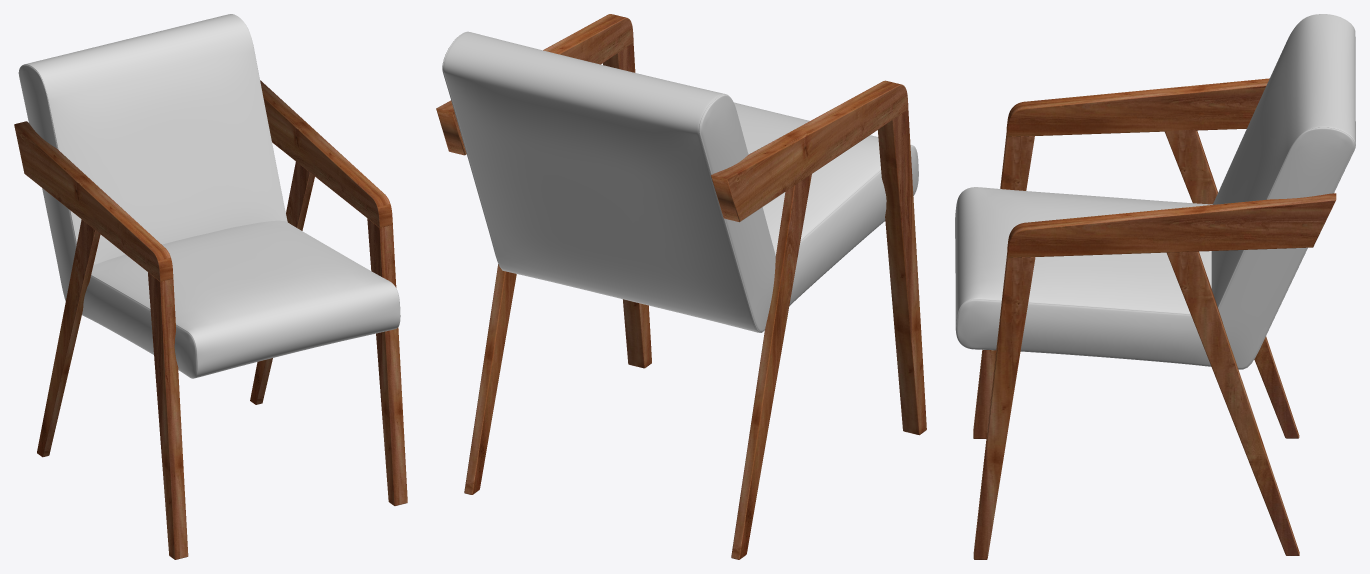
File: CHAIR.glb
3 views of the same model, side by side, from view 1: azimuth 30°, elevation 25°; view 2: azimuth 150°, elevation 25°; view 3: azimuth 270°, elevation 25° (orthographic). The views are drawn at different scales.
Visible parts, largest first — view 1: Box2131642881sds043, Box2131642987, Rectangle2123470118, Plane10003, Rectangle2123470117, Plane10002, Plane10001, Plane10004; view 2: Box2131642881sds043, Box2131642987, Rectangle2123470118, Plane10003, Plane10001, Plane10004, Rectangle2123470117, Plane10002; view 3: Box2131642987, Box2131642881sds043, Rectangle2123470117, Rectangle2123470118, Plane10004, Plane10002, Plane10001, Plane10003.
Part boxes in pixels (x1,y1,x2,y2): Box2131642881sds043: (18, 14, 287, 301); Box2131642987: (82, 220, 400, 378); Rectangle2123470118: (14, 121, 173, 281); Plane10003: (148, 272, 188, 559); Rectangle2123470117: (260, 80, 392, 227); Plane10002: (367, 218, 407, 505); Plane10001: (37, 219, 100, 457); Plane10004: (250, 161, 314, 404); Box2131642881sds043: (442, 31, 775, 332); Box2131642987: (734, 102, 918, 305); Rectangle2123470118: (711, 80, 908, 222); Plane10003: (877, 110, 926, 435); Plane10001: (731, 174, 811, 559); Plane10004: (464, 264, 516, 494); Rectangle2123470117: (436, 14, 633, 155); Plane10002: (603, 43, 651, 368); Box2131642987: (955, 187, 1212, 366); Box2131642881sds043: (1211, 14, 1355, 369); Rectangle2123470117: (1007, 193, 1336, 257); Rectangle2123470118: (1006, 78, 1269, 136); Plane10004: (1167, 251, 1299, 555); Plane10002: (973, 253, 1035, 559); Plane10001: (1164, 129, 1299, 438); Plane10003: (973, 133, 1034, 438).
Size of the model in its own units: 0.5612 by 0.864 by 0.7382.
Materials: 2 (1 with a texture image).
